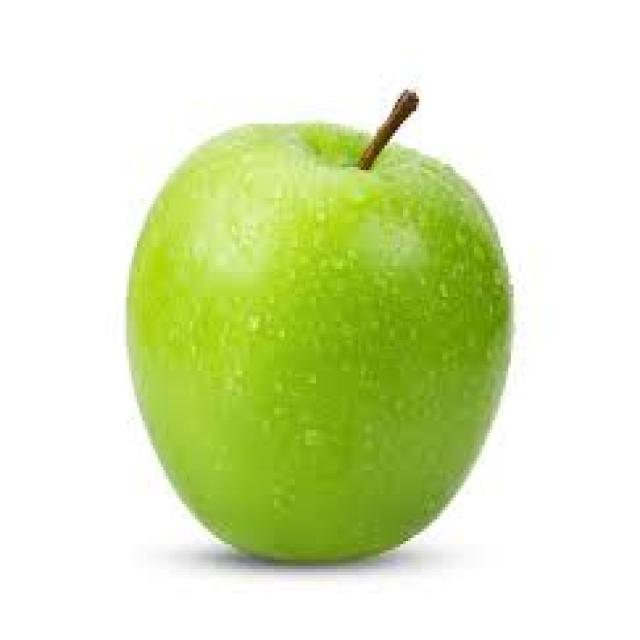non_orange: (89, 93, 574, 587)
